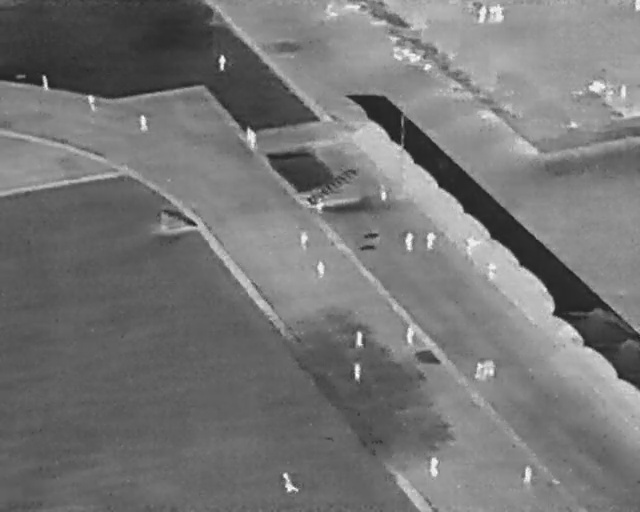DontCare: (385, 35, 436, 73)
Person: (282, 471, 300, 493), (247, 125, 257, 149), (488, 261, 498, 284), (405, 230, 415, 252), (430, 456, 440, 477), (316, 259, 326, 279), (426, 231, 436, 249), (355, 330, 365, 348), (405, 325, 414, 345), (524, 465, 533, 483), (479, 5, 487, 24), (496, 4, 504, 22), (300, 231, 308, 249), (317, 196, 325, 214), (88, 94, 96, 112), (354, 362, 361, 382), (379, 184, 387, 201), (475, 362, 483, 379), (489, 358, 496, 377), (140, 114, 148, 130), (489, 5, 496, 22), (482, 361, 489, 378), (42, 74, 49, 91), (219, 54, 226, 70), (634, 0, 639, 12)
